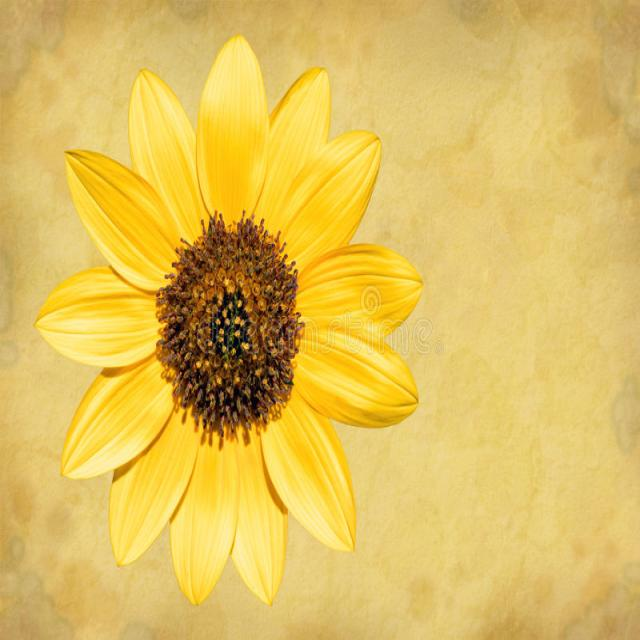sunflower: (55, 43, 421, 610)
